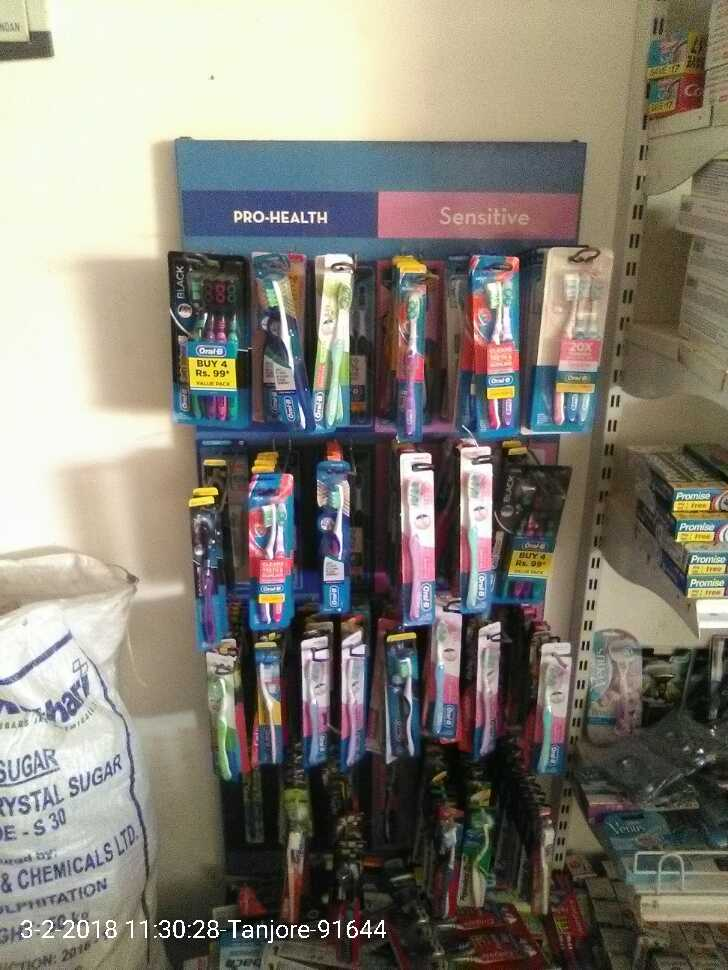oralb: (164, 247, 247, 423), (542, 247, 612, 442), (251, 252, 310, 428), (505, 457, 569, 611), (473, 270, 520, 433), (248, 469, 294, 626), (532, 638, 576, 779), (315, 253, 351, 424), (187, 491, 226, 642), (400, 450, 433, 622), (391, 264, 422, 441), (458, 451, 492, 612), (315, 458, 350, 613), (382, 629, 421, 763), (204, 654, 242, 779), (429, 612, 463, 739), (337, 634, 369, 764), (251, 648, 283, 762), (298, 637, 328, 758), (472, 622, 499, 753)
